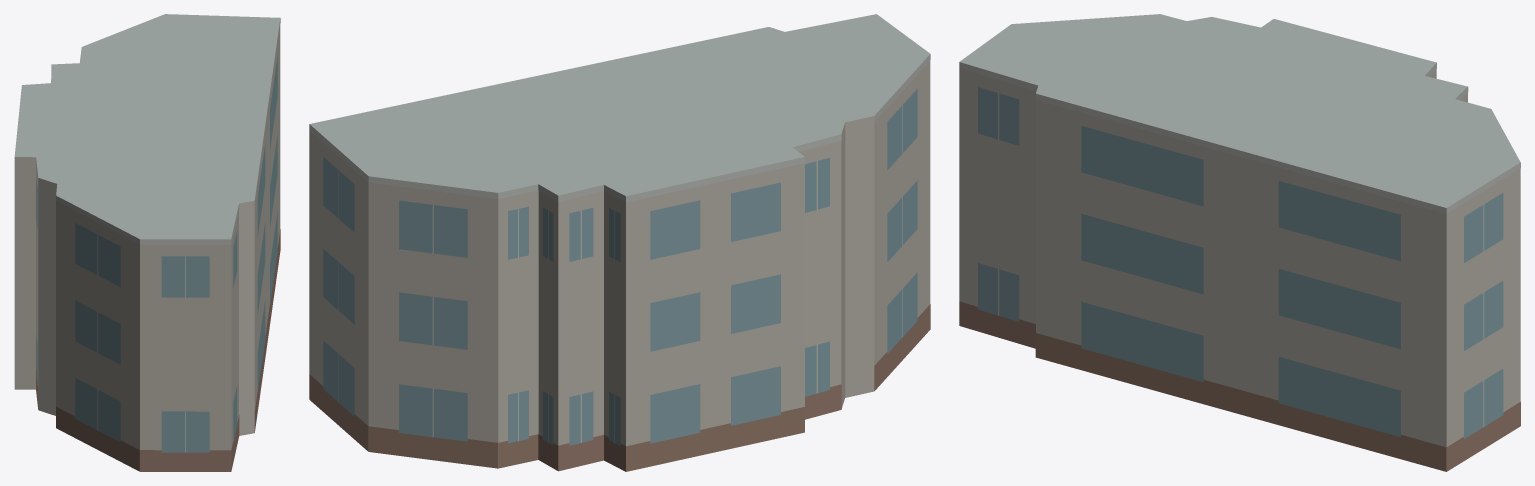
File: survey-upis-32624301.glb
The picture shows the model from 3 angles, left to right: view 1: azimuth 30°, elevation 25°; view 2: azimuth 150°, elevation 25°; view 3: azimuth 270°, elevation 25°; orthographic projection. The views are drawn at different scales.
Parts seen in each view (by area): view 1: survey-upis-32624301.tmp; view 2: survey-upis-32624301.tmp; view 3: survey-upis-32624301.tmp.
Part boxes in pixels (x1,y1,x2,y2): survey-upis-32624301.tmp: (14, 14, 280, 471); survey-upis-32624301.tmp: (309, 14, 930, 471); survey-upis-32624301.tmp: (959, 14, 1520, 471).
Bounding box in the file's own units: 16.96 × 10.75 × 20.74.
